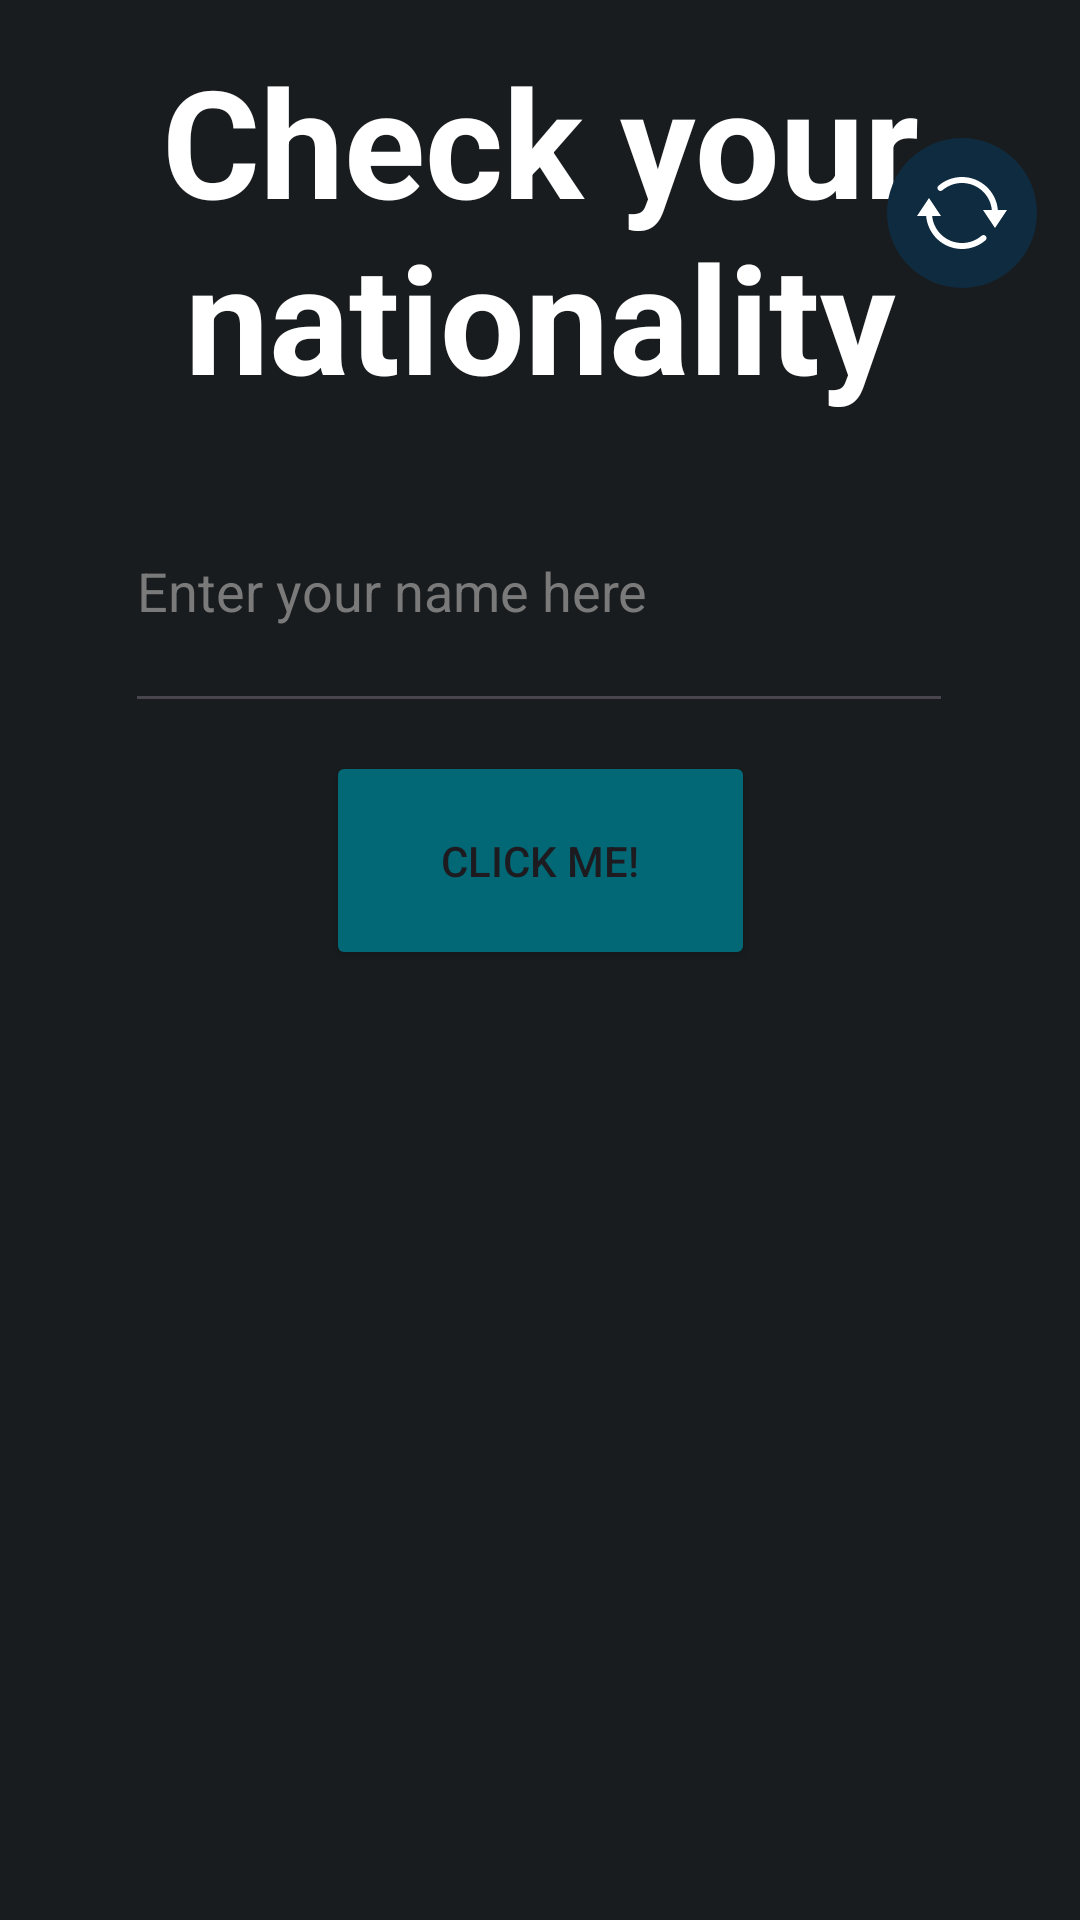

Where to tap for icons on this 1080w x 1920h app screen, as point (x, y):
refresh: point (962, 213)
